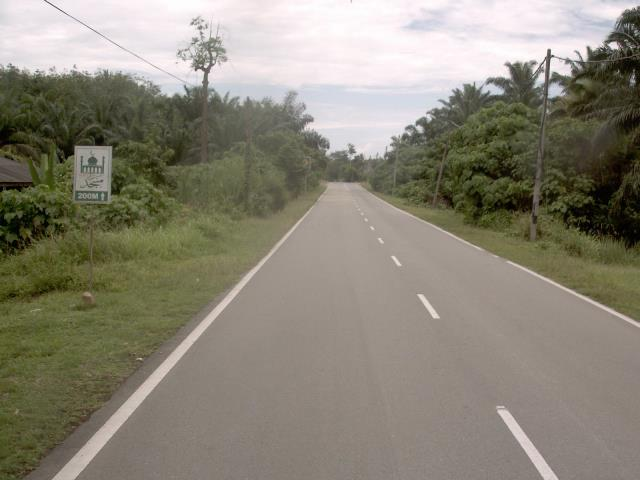ads_sign: (65, 137, 119, 213)
